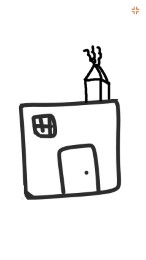closed_window: (27, 109, 58, 140)
door: (55, 141, 104, 203)
single_line_roof: (16, 91, 127, 116)
smoking_chimney: (74, 38, 117, 110)
wall: (14, 109, 123, 205)
